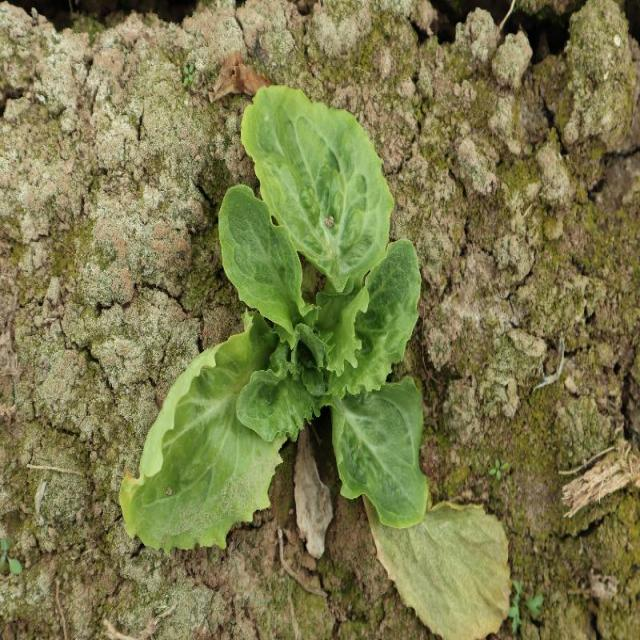crop: (121, 84, 431, 555)
